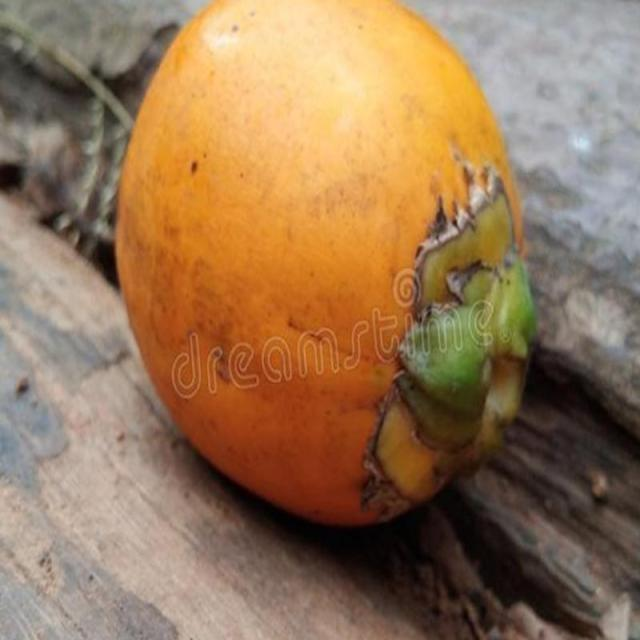good: (114, 0, 537, 532)
